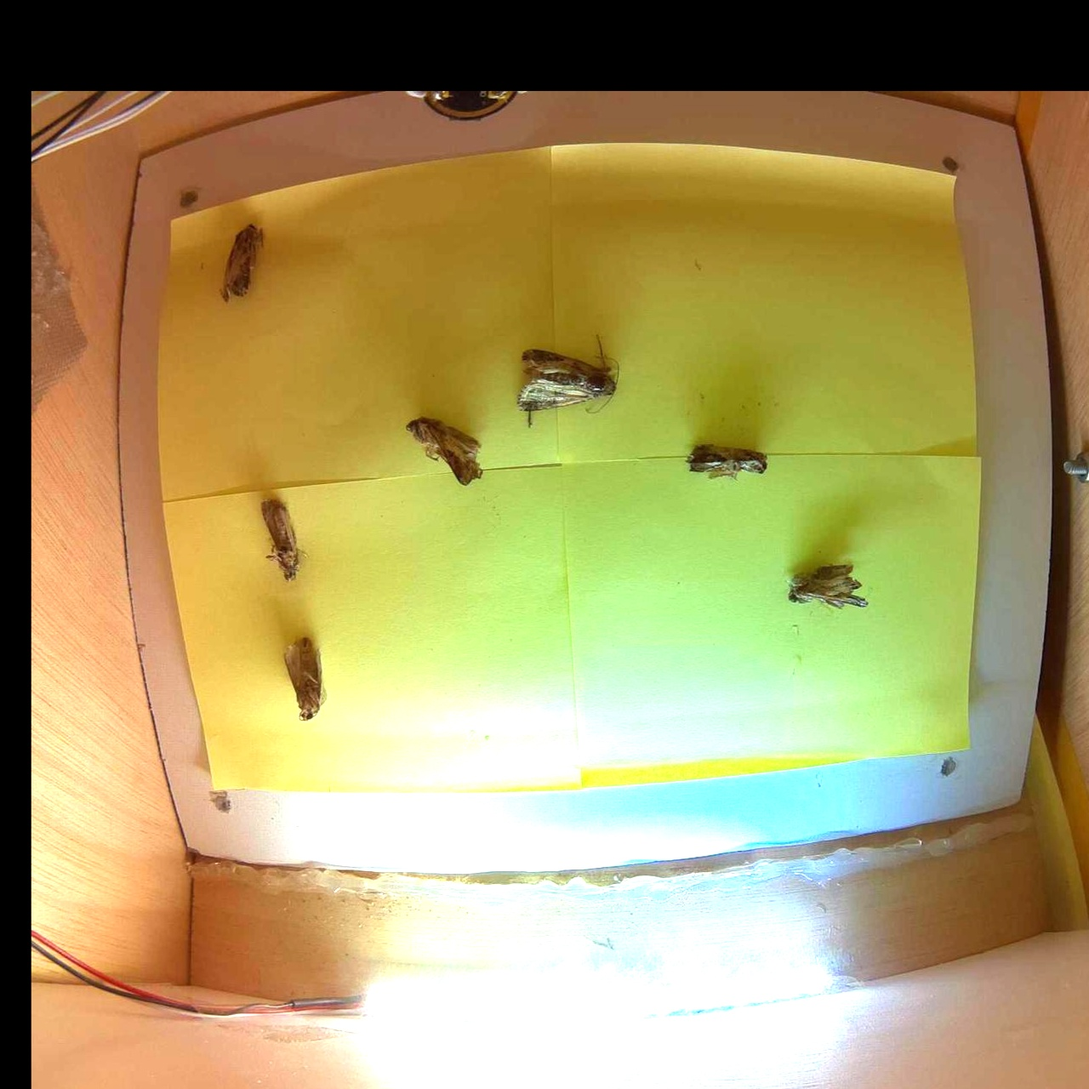Spodoptera litura: (516, 332, 617, 429), (406, 414, 482, 486), (787, 562, 868, 610), (217, 222, 263, 302), (259, 497, 300, 581), (283, 633, 322, 721), (685, 446, 769, 478)
